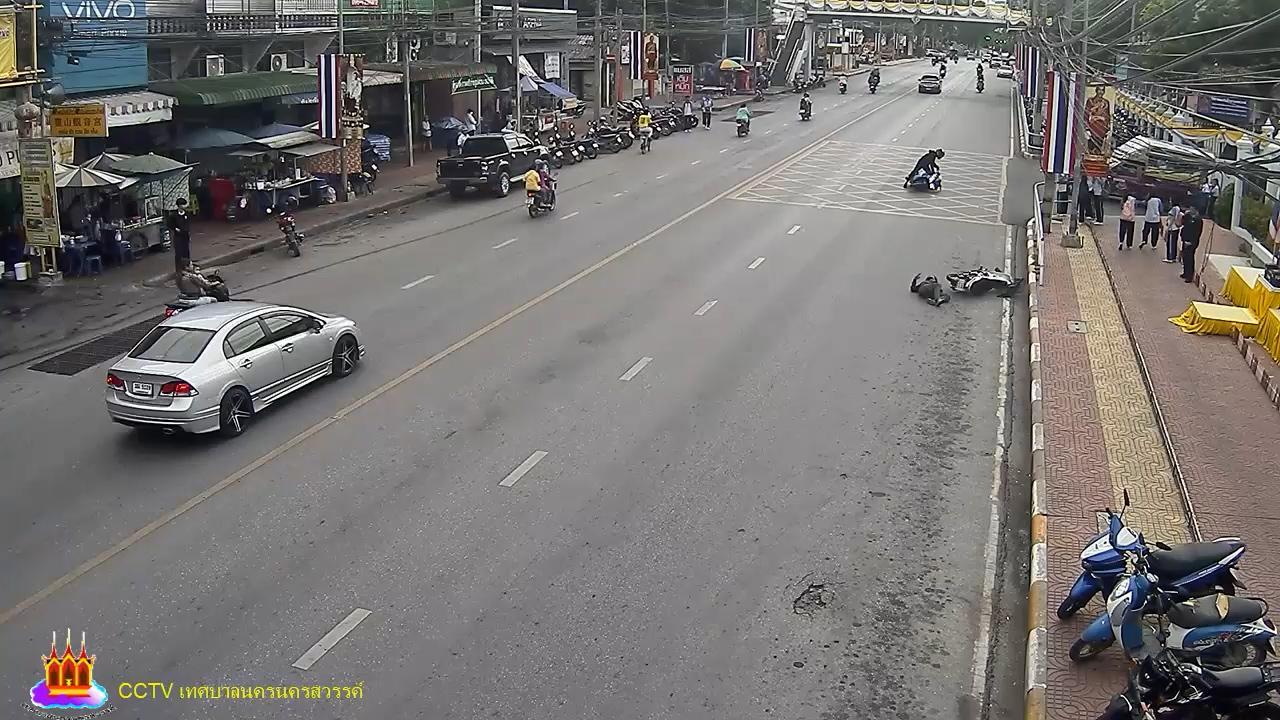accident: (906, 266, 950, 307)
